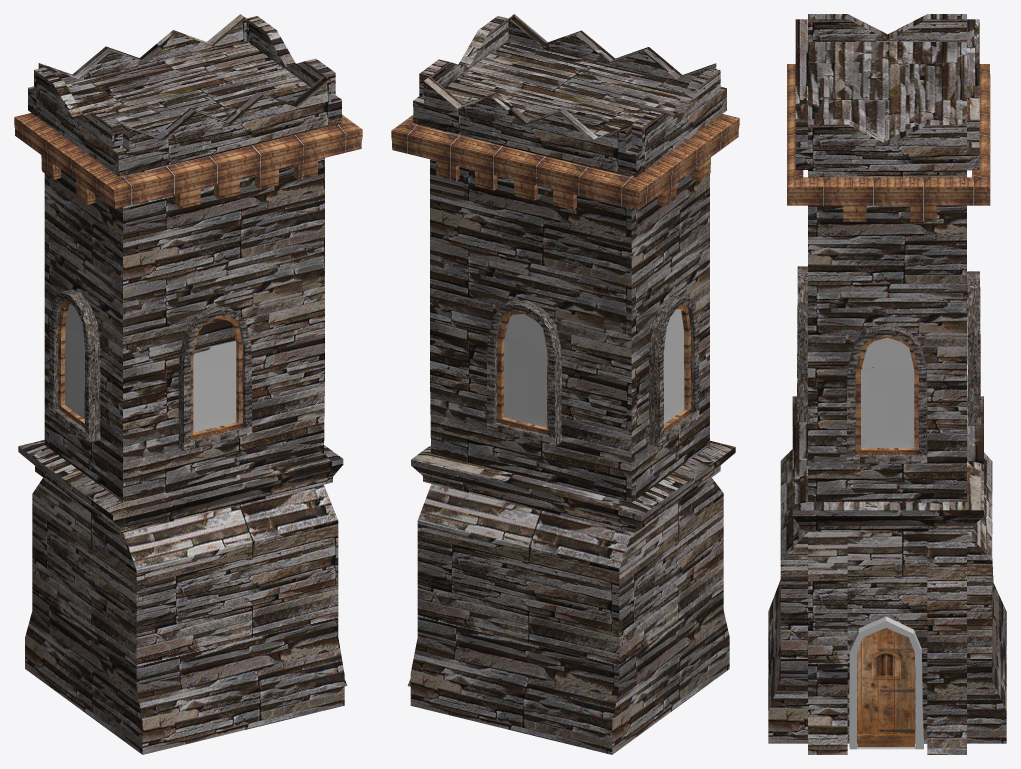
Rendered from torre-albion.obj.
The picture shows the model from 3 angles, left to right: view 1: azimuth 30°, elevation 25°; view 2: azimuth 150°, elevation 25°; view 3: azimuth 270°, elevation 25°; orthographic projection.
Visible parts, largest first — view 1: torre, torre_telhado, janela_fora002, janela_fora003, JANELA003, JANELA002, janela_dentro003, janela_dentro002; view 2: torre, torre_telhado, JANELA001, janela_fora001, janela_fora002, JANELA002, janela_dentro001, janela_dentro002; view 3: torre, torre_telhado, TORRE_PORTA, JANELA, janela_fora, TORRE_BATENTE, janela_fora001, janela_dentro, janela_fora003.
Boxes of the visible parts, x1,y1,x2,y2 form: torre: [18, 14, 347, 754]; torre_telhado: [14, 113, 362, 208]; janela_fora002: [49, 290, 100, 442]; janela_fora003: [178, 306, 252, 451]; JANELA003: [193, 341, 236, 432]; JANELA002: [65, 304, 85, 418]; janela_dentro003: [190, 316, 243, 439]; janela_dentro002: [58, 300, 85, 428]; torre: [407, 14, 735, 754]; torre_telhado: [391, 114, 739, 209]; JANELA001: [504, 314, 547, 427]; janela_fora001: [487, 300, 562, 446]; janela_fora002: [649, 295, 699, 446]; JANELA002: [663, 309, 684, 423]; janela_dentro001: [497, 310, 548, 434]; janela_dentro002: [664, 305, 691, 432]; torre: [768, 14, 1006, 754]; torre_telhado: [787, 64, 990, 221]; TORRE_PORTA: [857, 628, 914, 747]; JANELA: [861, 337, 914, 447]; janela_fora: [847, 323, 927, 463]; TORRE_BATENTE: [849, 616, 923, 749]; janela_fora001: [967, 271, 980, 425]; janela_dentro: [855, 335, 919, 454]; janela_fora003: [797, 266, 807, 421].
Bounding box in the file's own units: 11.61 × 27.5 × 9.51.
